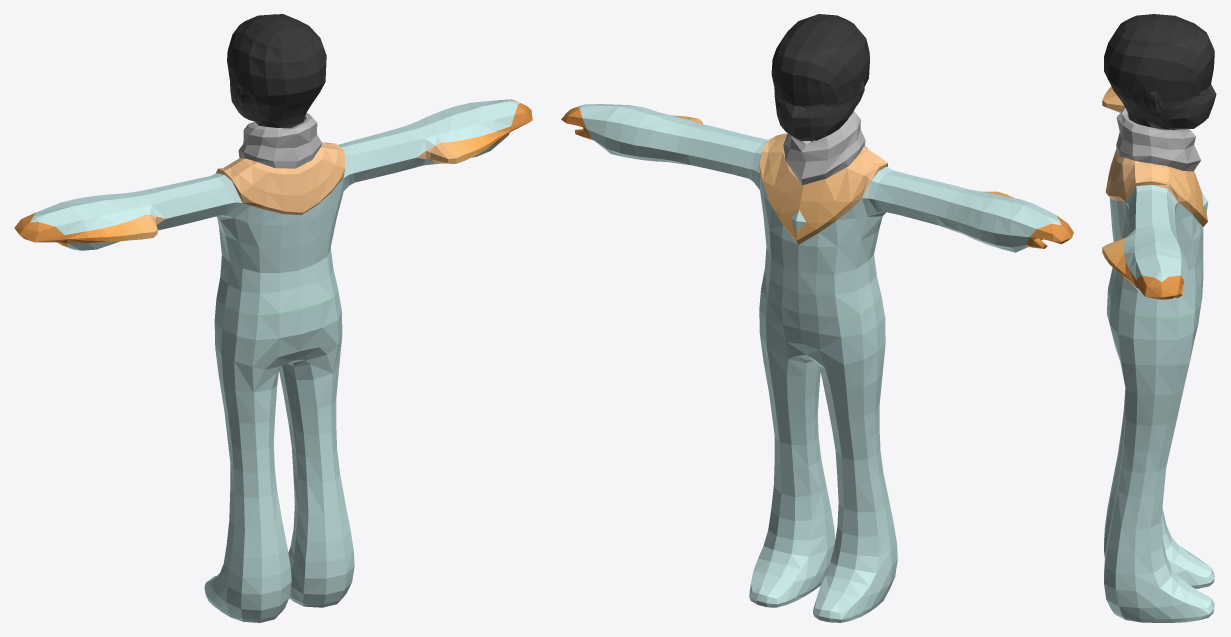
File: CharSkyKid_Body_AP07Jumpsuits_01.glb
The picture shows the model from 3 angles, left to right: view 1: azimuth 30°, elevation 25°; view 2: azimuth 150°, elevation 25°; view 3: azimuth 270°, elevation 25°; orthographic projection.
Visible parts, largest first — view 1: CharSkyKid_Body_AP07Jumpsuits_01; view 2: CharSkyKid_Body_AP07Jumpsuits_01; view 3: CharSkyKid_Body_AP07Jumpsuits_01.
Part boxes in pixels (x1,y1,x2,y2): CharSkyKid_Body_AP07Jumpsuits_01: [14, 14, 532, 622]; CharSkyKid_Body_AP07Jumpsuits_01: [561, 14, 1073, 622]; CharSkyKid_Body_AP07Jumpsuits_01: [1102, 14, 1216, 622].
Size of the model in its own units: 13.83 by 14.93 by 2.67.
1 material, 1 textured.
